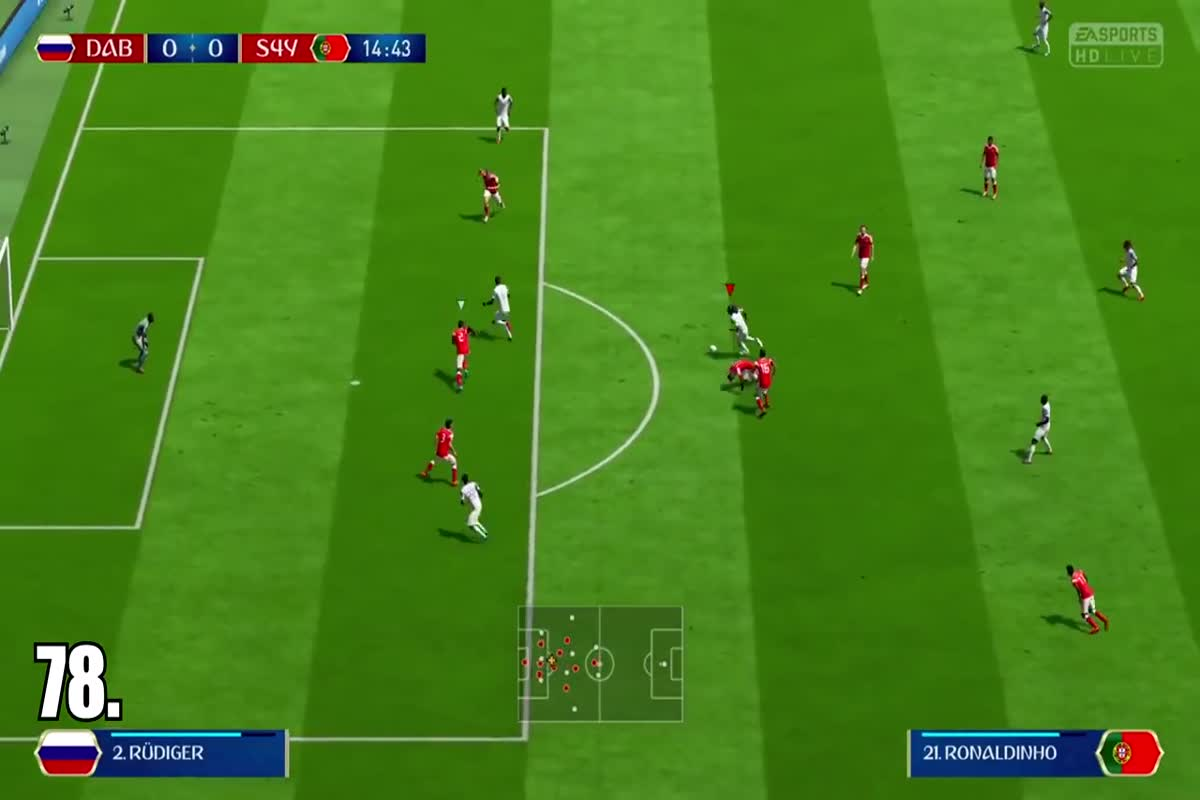ball: (700, 341, 726, 357)
